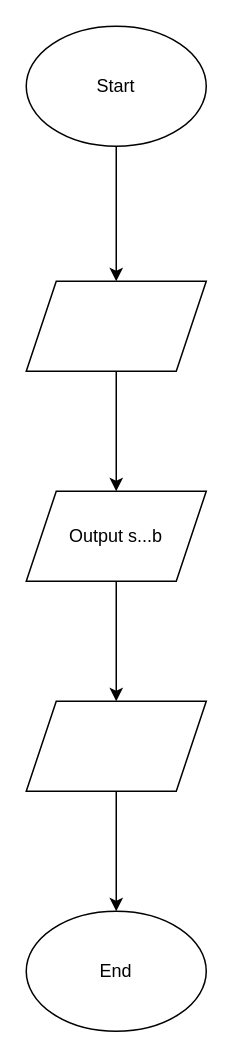
Some shapes in this 233 by 1058 pixel diagram are drawn without their labels. The centre of each missing label's shape, as x and y in pixels:
"Input numbers" goes at (115,325).
"Output b...s" goes at (115,745).
